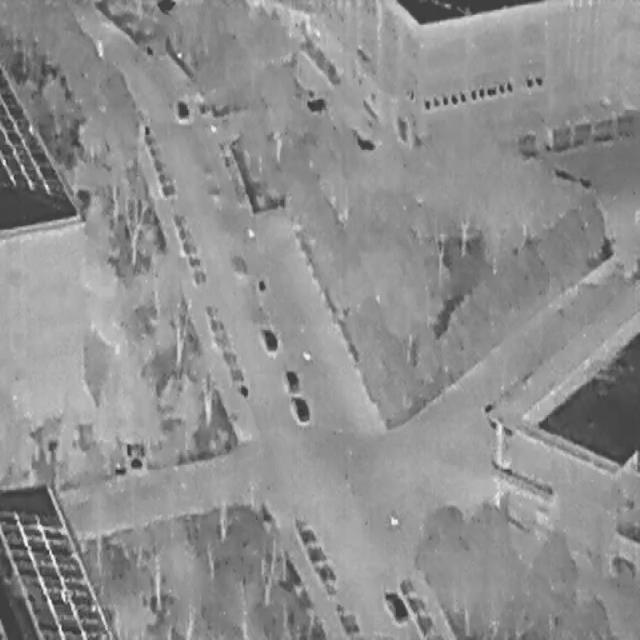Car: (380, 582, 410, 626), (290, 390, 310, 422), (259, 323, 278, 352), (284, 365, 300, 393), (176, 99, 188, 119)
